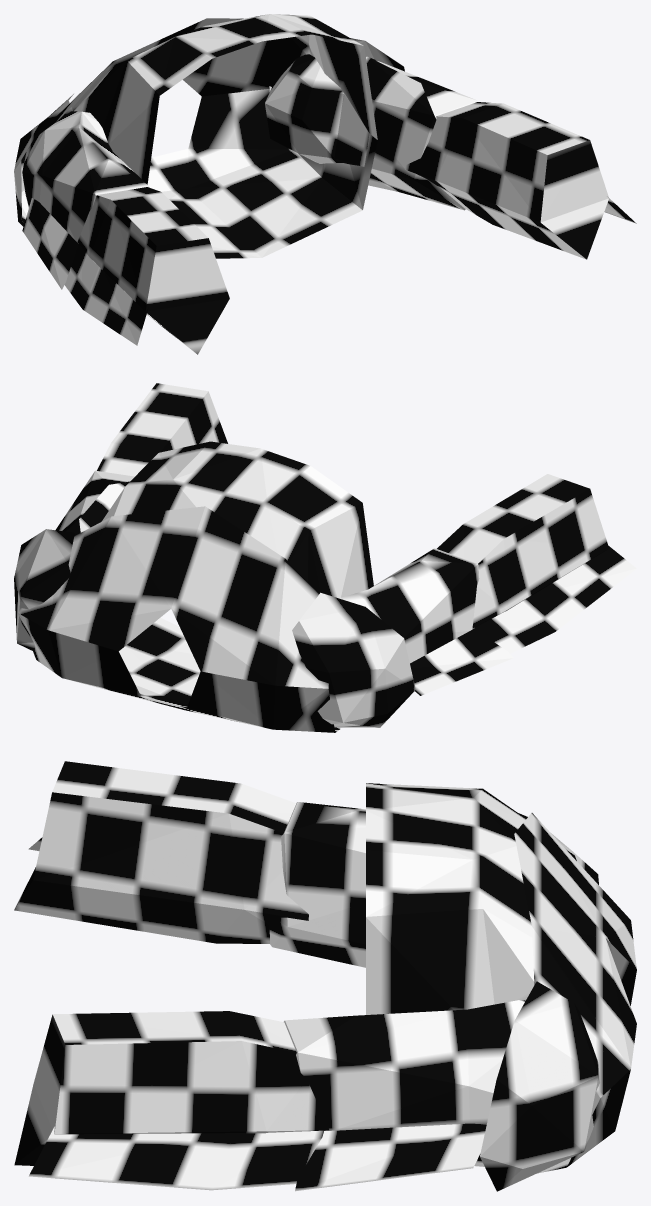
Rendered from initarpl12.dae.
The picture shows the model from 3 angles, top to bottom: view 1: azimuth 30°, elevation 25°; view 2: azimuth 150°, elevation 25°; view 3: azimuth 270°, elevation 25°; orthographic projection. The views are drawn at different scales.
Parts seen in each view (by area): view 1: armor; view 2: armor; view 3: armor.
Part boxes in pixels (x1,y1,x2,y2): armor: [14, 14, 636, 354]; armor: [14, 383, 636, 732]; armor: [14, 761, 636, 1191].
Bounding box in the file's own units: 1.8 × 1.45 × 0.7468.
Materials: 1 (1 with a texture image).
